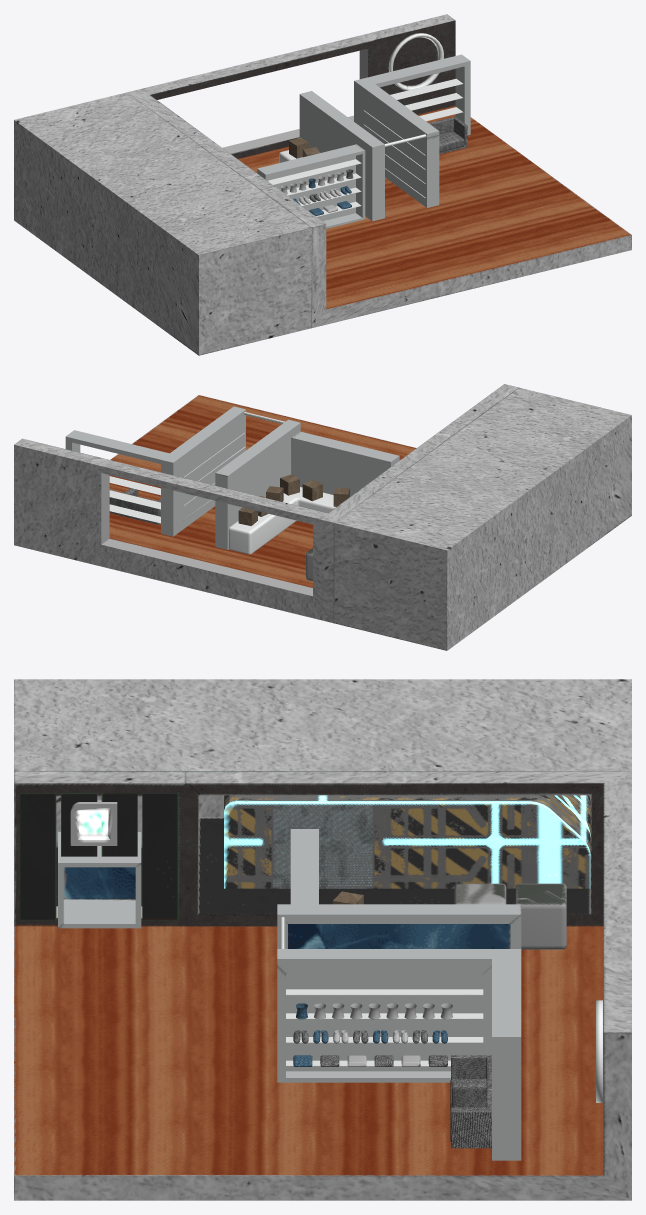
The picture shows the model from 3 angles, top to bottom: view 1: azimuth 30°, elevation 25°; view 2: azimuth 150°, elevation 25°; view 3: azimuth 270°, elevation 25°; orthographic projection. The views are drawn at different scales.
Visible parts, largest first — view 1: Geo2; view 2: Geo2; view 3: Geo2.
Part boxes in pixels (x1,y1,x2,y2): Geo2: (14, 14, 631, 355); Geo2: (14, 384, 631, 650); Geo2: (14, 679, 631, 1200).
Bounding box in the file's own units: 204 × 45.33 × 151.
3 materials, 3 textured.
